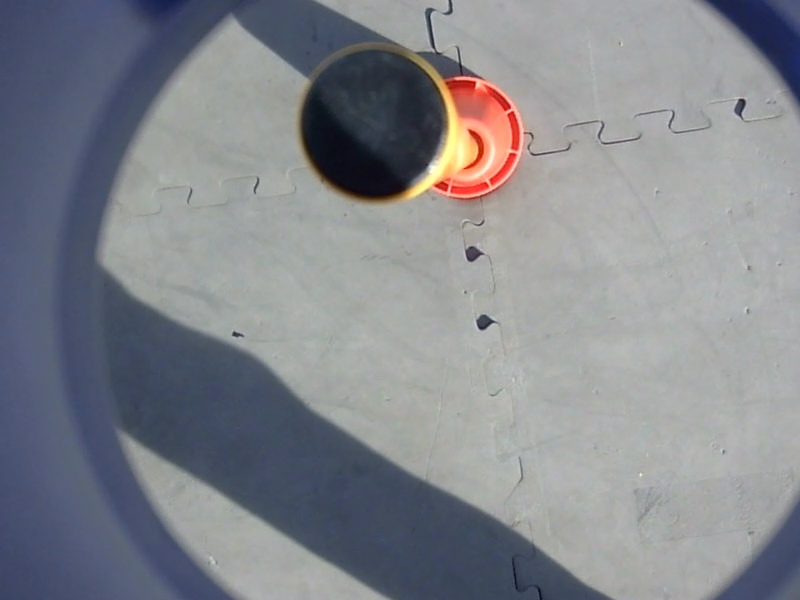tip: (289, 36, 462, 217)
